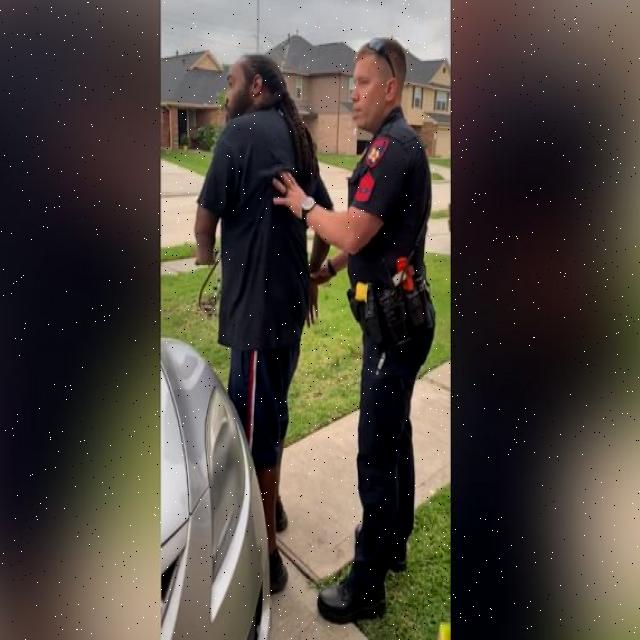police: (309, 12, 435, 640)
